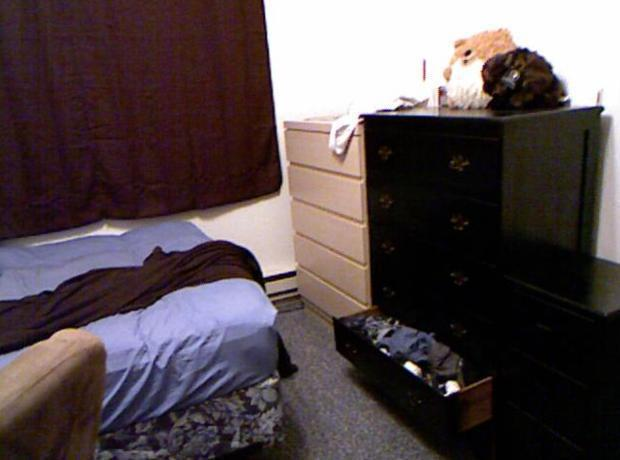Armario: (361, 111, 601, 441), (278, 107, 375, 342)
